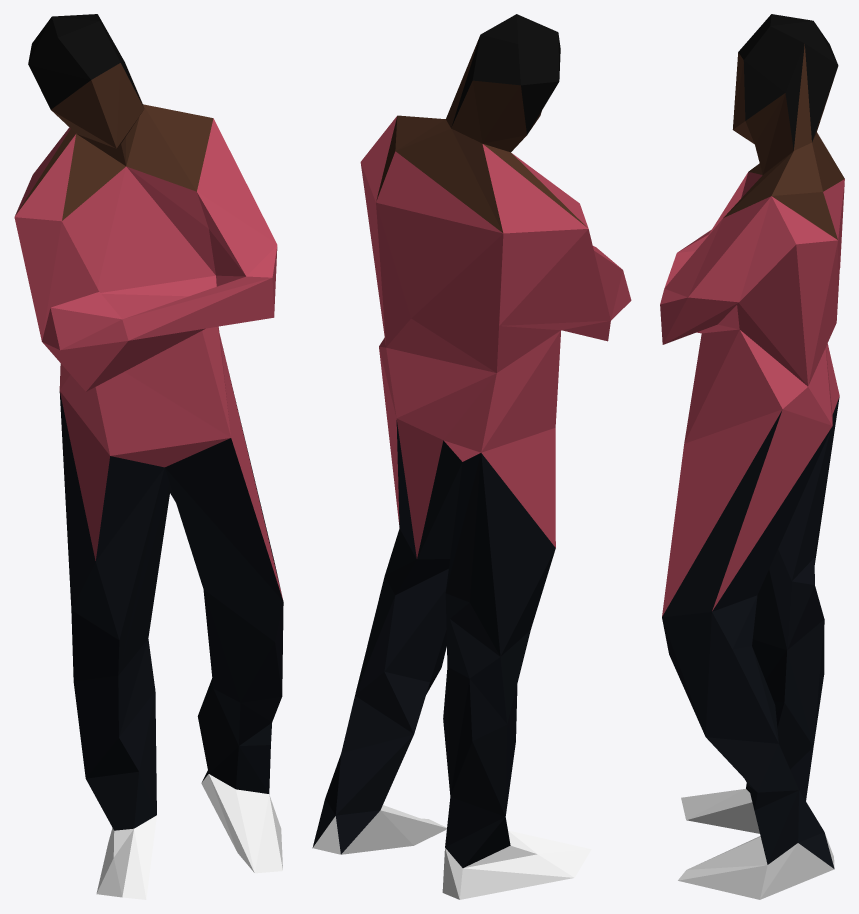
The model's file is walker-29.glb.
The picture shows the model from 3 angles, left to right: view 1: azimuth 30°, elevation 25°; view 2: azimuth 150°, elevation 25°; view 3: azimuth 270°, elevation 25°; orthographic projection. The views are drawn at different scales.
Parts seen in each view (by area): view 1: Man07; view 2: Man07; view 3: Man07.
Boxes of the visible parts, x1,y1,x2,y2 form: Man07: [14, 14, 283, 899]; Man07: [312, 14, 631, 899]; Man07: [660, 14, 844, 899].
Bounding box in the file's own units: 0.5058 × 1.61 × 0.3408.
